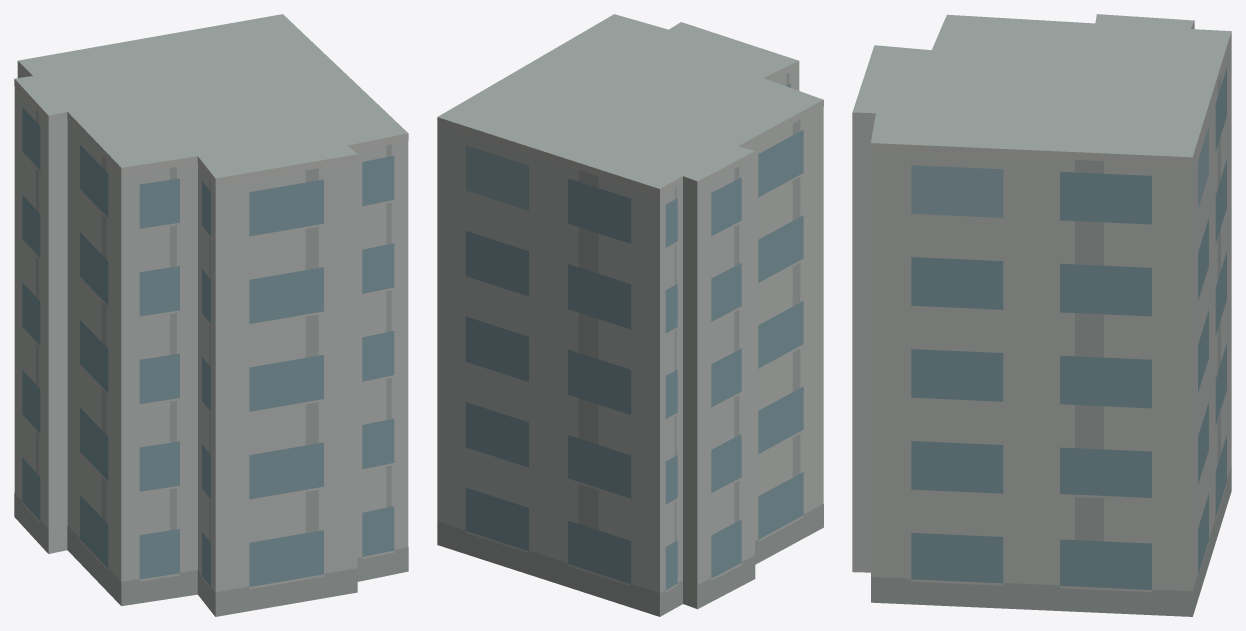
File: survey-upis-32639562.glb
3 renders of one model, left to right at view 1: azimuth 30°, elevation 25°; view 2: azimuth 150°, elevation 25°; view 3: azimuth 270°, elevation 25°, orthographic. The views are drawn at different scales.
Parts seen in each view (by area): view 1: survey-upis-32639562.tmp; view 2: survey-upis-32639562.tmp; view 3: survey-upis-32639562.tmp.
Part boxes in pixels (left/top/right/bottom): survey-upis-32639562.tmp: left=14, top=14, right=408, bottom=616; survey-upis-32639562.tmp: left=437, top=14, right=823, bottom=616; survey-upis-32639562.tmp: left=852, top=14, right=1231, bottom=616.
Bounding box in the file's own units: 9.7 × 14.5 × 10.86.
